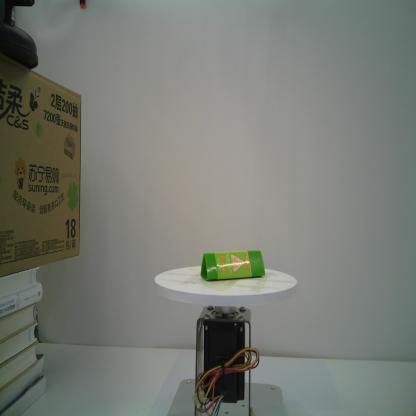Stationery: (200, 250, 266, 280)
